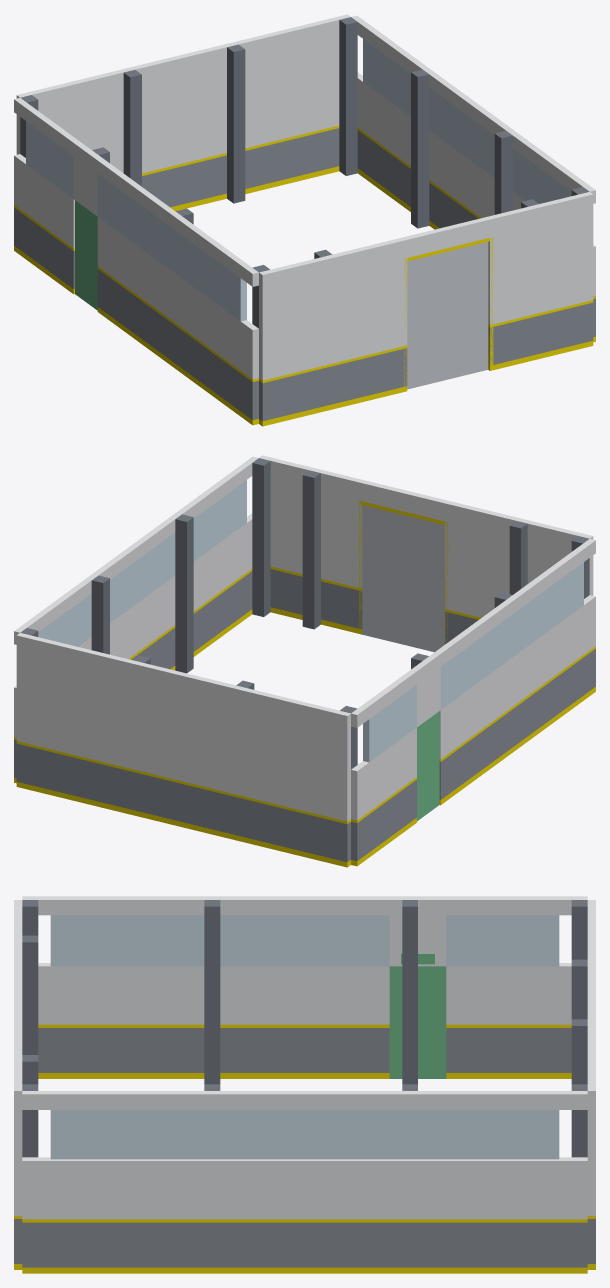
File: FactoryWalls.glb
3 views of the same model, one above another, from view 1: azimuth 30°, elevation 25°; view 2: azimuth 150°, elevation 25°; view 3: azimuth 270°, elevation 25° (orthographic). The views are drawn at different scales.
Parts seen in each view (by area): view 1: FactoryWalls_Root; view 2: FactoryWalls_Root; view 3: FactoryWalls_Root.
Boxes of the visible parts, x1,y1,x2,y2 form: FactoryWalls_Root: (14,14,595,426); FactoryWalls_Root: (14,455,595,867); FactoryWalls_Root: (14,896,595,1273).
Size of the model in its own units: 8.3 by 3.5 by 10.3.
